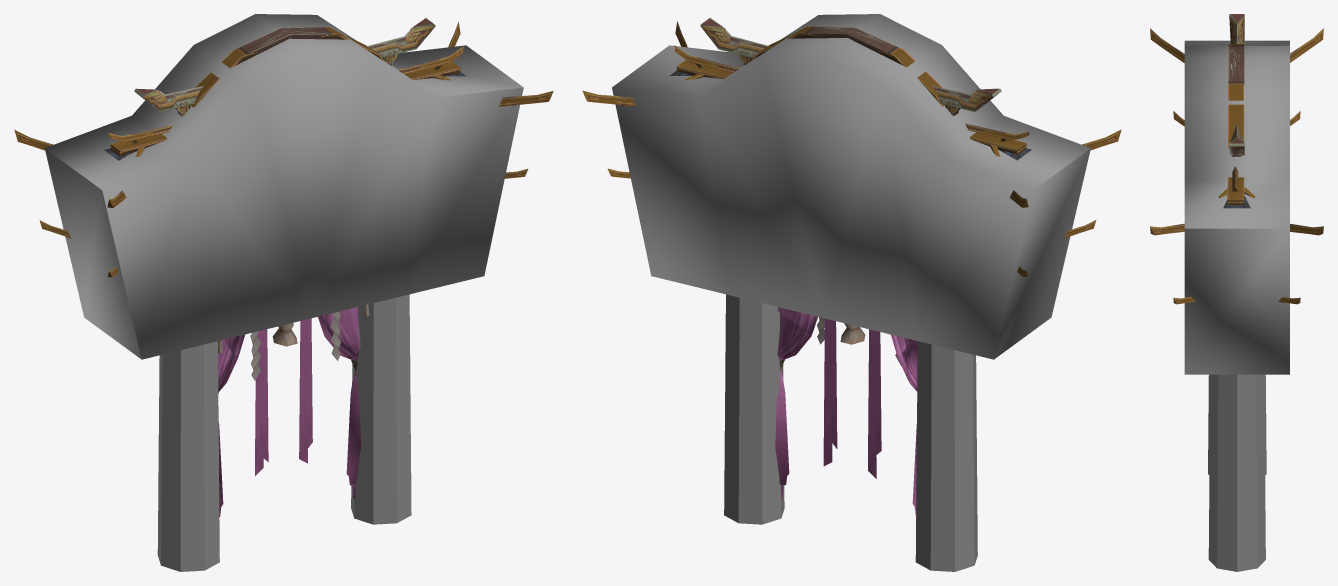
File: Scene_Build_HuanYinFang_GaoPaiLou_1.FBX
The picture shows the model from 3 angles, left to right: view 1: azimuth 30°, elevation 25°; view 2: azimuth 150°, elevation 25°; view 3: azimuth 270°, elevation 25°; orthographic projection. The views are drawn at different scales.
Visible parts, largest first — view 1: Scene_Build_HuanYinFang_GaoPaiLou_1_Xzm, Scene_Build_HuanYinFang_GaoPaiLou_1a, Scene_Build_HuanYinFang_GaoPaiLou_1b, Scene_Build_HuanYinFang_GaoPaiLou_1d; view 2: Scene_Build_HuanYinFang_GaoPaiLou_1_Xzm, Scene_Build_HuanYinFang_GaoPaiLou_1a, Scene_Build_HuanYinFang_GaoPaiLou_1b; view 3: Scene_Build_HuanYinFang_GaoPaiLou_1_Xzm, Scene_Build_HuanYinFang_GaoPaiLou_1a.
Boxes of the visible parts, <box> form: Scene_Build_HuanYinFang_GaoPaiLou_1_Xzm: <box>44,14,523,571</box>; Scene_Build_HuanYinFang_GaoPaiLou_1a: <box>14,18,553,277</box>; Scene_Build_HuanYinFang_GaoPaiLou_1b: <box>218,307,360,516</box>; Scene_Build_HuanYinFang_GaoPaiLou_1d: <box>218,304,369,380</box>; Scene_Build_HuanYinFang_GaoPaiLou_1_Xzm: <box>612,14,1090,571</box>; Scene_Build_HuanYinFang_GaoPaiLou_1a: <box>582,18,1121,276</box>; Scene_Build_HuanYinFang_GaoPaiLou_1b: <box>775,307,917,516</box>; Scene_Build_HuanYinFang_GaoPaiLou_1_Xzm: <box>1184,40,1289,571</box>; Scene_Build_HuanYinFang_GaoPaiLou_1a: <box>1150,14,1323,304</box>.
Size of the model in its own units: 1988 by 2154 by 737.
